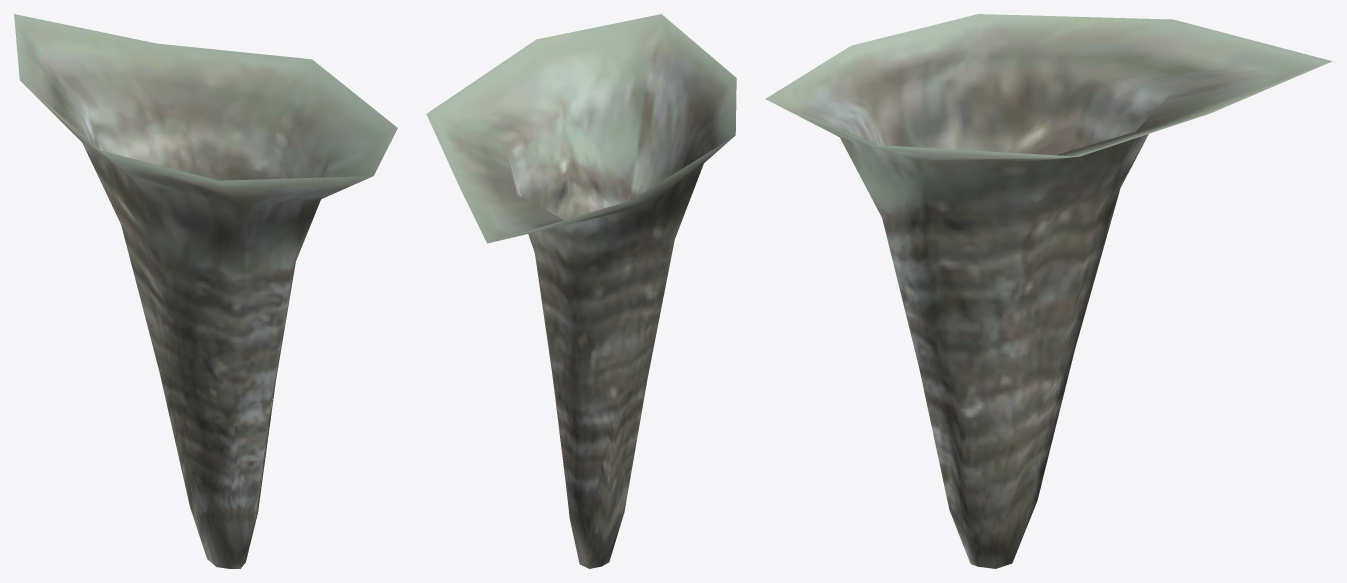
Rendered from TROLLHOLE02_PS-SECRETSTALAG46.fbx.
3 views of the same model, side by side, from view 1: azimuth 30°, elevation 25°; view 2: azimuth 150°, elevation 25°; view 3: azimuth 270°, elevation 25° (orthographic). The views are drawn at different scales.
Parts seen in each view (by area): view 1: TROLLHOLE02_PS-SECRETSTALAG46; view 2: TROLLHOLE02_PS-SECRETSTALAG46; view 3: TROLLHOLE02_PS-SECRETSTALAG46.
Boxes of the visible parts, bbox=[...] form: TROLLHOLE02_PS-SECRETSTALAG46: bbox=[14, 14, 397, 568]; TROLLHOLE02_PS-SECRETSTALAG46: bbox=[426, 14, 736, 568]; TROLLHOLE02_PS-SECRETSTALAG46: bbox=[765, 14, 1332, 568].
Bounding box in the file's own units: 16918 × 28581 × 30069.
1 material, 1 textured.
